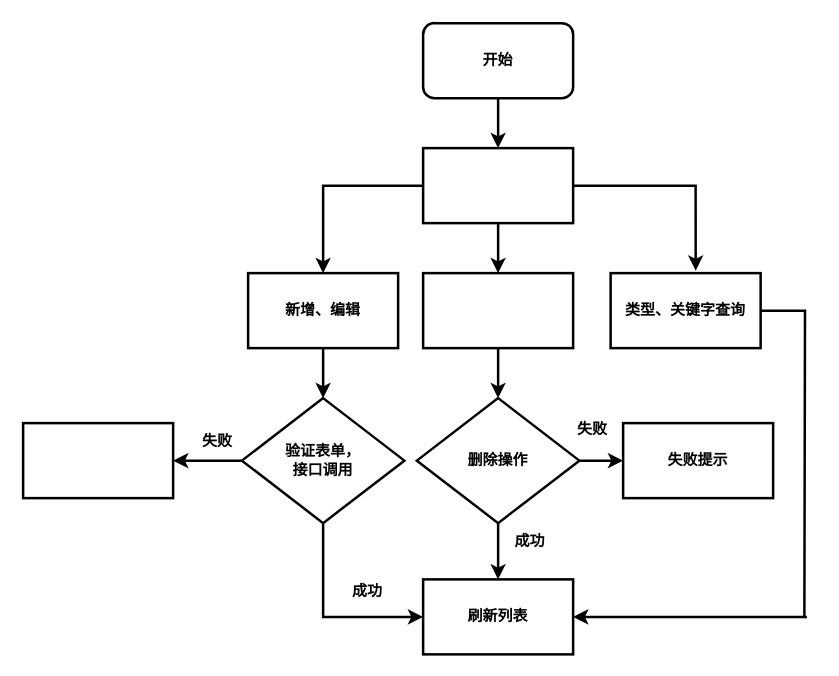
This 839x676 diagram has some shape labels left out. The box of each missing label's shape, as (x1, y1, x2, y2) in pixels:
删除、批量删除: (421, 271, 574, 349)
提示信息: (21, 421, 174, 499)
插件管理: (421, 146, 574, 224)
